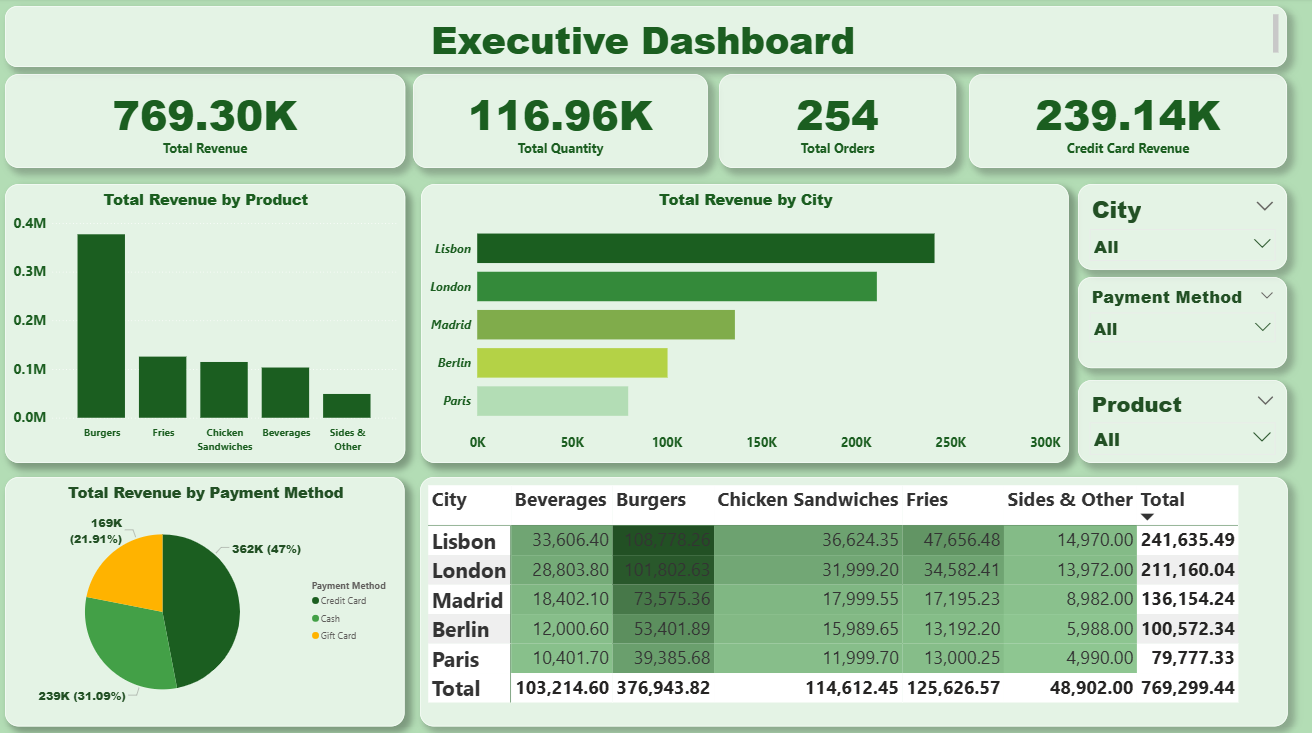

The page's visual inventory and layout, read from the dashboard file:
{"tool":"powerbi","page":{"name":"Page 1","canvas":[1920,1080],"ordinal":0},"visuals":[{"type":"textbox","box":[10.2,11.7,1870.4,89],"z":0},{"type":"card","fields":{"Values":["Sales.Total Revenue"]},"box":[10.2,110.9,583.6,137.1],"z":1000},{"type":"card","fields":{"Values":["Sales.Total Orders"]},"box":[1051.9,110.9,345.8,137.1],"z":2000},{"type":"card","fields":{"Values":["Sales.Total Quantity"]},"box":[605.5,110.9,430.4,137.1],"z":3000},{"type":"clusteredColumnChart","fields":{"Category":["Sales.Product"],"Y":["Sales.Total Revenue"]},"box":[10.2,271.4,583.6,407.1],"z":4000},{"type":"clusteredBarChart","fields":{"Category":["Cities.City"],"Y":["Sales.Total Revenue"]},"box":[617.1,271.4,945.4,407.1],"z":5000},{"type":"pieChart","fields":{"Category":["Sales.Payment Method"],"Y":["Sales.Total Revenue"]},"box":[10.4,699.4,583.4,363.6],"z":6000},{"type":"pivotTable","fields":{"Values":["Sales.Total Revenue"],"Rows":["Cities.City"],"Columns":["Sales.Product"]},"box":[616.3,699.4,1265.6,363.6],"z":7000},{"type":"slicer","fields":{"Values":["Cities.City"]},"box":[1575.7,271.4,304.9,125.5],"z":8000},{"type":"slicer","fields":{"Values":["Sales.Product"]},"box":[1575.7,557.3,304.9,121.1],"z":9000},{"type":"slicer","fields":{"Values":["Sales.Payment Method"]},"box":[1575.7,407.1,304.9,132.8],"z":10000},{"type":"card","fields":{"Values":["Sales.Credit Card Revenue"]},"box":[1416.7,110.9,464,137.1],"z":13000}]}

Visuals, with their boxes in screenshot pixels (x1, y1, x2, y2), scaled from the page's 1920x1080 canvas onto the 1312x733 screenshot:
textbox: <bbox>7, 8, 1285, 68</bbox>
card - Sales.Total Revenue: <bbox>7, 75, 406, 168</bbox>
card - Sales.Total Orders: <bbox>719, 75, 955, 168</bbox>
card - Sales.Total Quantity: <bbox>414, 75, 708, 168</bbox>
clusteredColumnChart - Sales.Product x Sales.Total Revenue: <bbox>7, 184, 406, 461</bbox>
clusteredBarChart - Cities.City x Sales.Total Revenue: <bbox>422, 184, 1068, 461</bbox>
pieChart - Sales.Payment Method x Sales.Total Revenue: <bbox>7, 475, 406, 721</bbox>
pivotTable - Sales.Total Revenue x Cities.City: <bbox>421, 475, 1286, 721</bbox>
slicer - Cities.City: <bbox>1077, 184, 1285, 269</bbox>
slicer - Sales.Product: <bbox>1077, 378, 1285, 460</bbox>
slicer - Sales.Payment Method: <bbox>1077, 276, 1285, 366</bbox>
card - Sales.Credit Card Revenue: <bbox>968, 75, 1285, 168</bbox>
